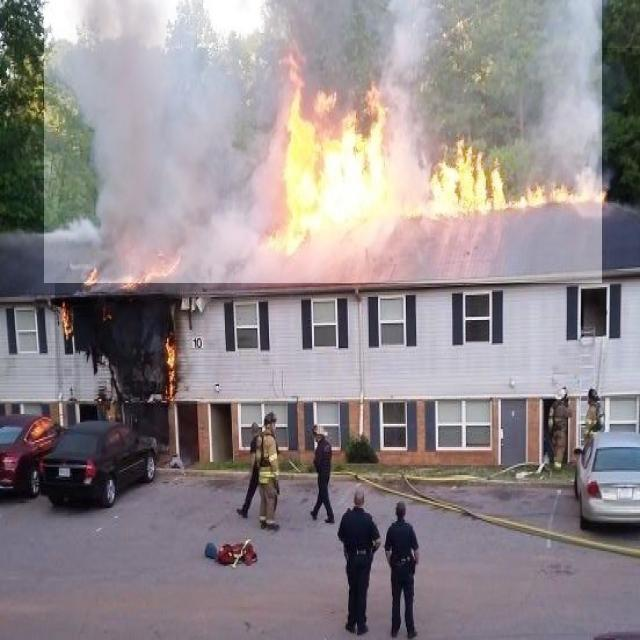Fire: (55, 48, 640, 401)
Smoke: (44, 0, 602, 283)
